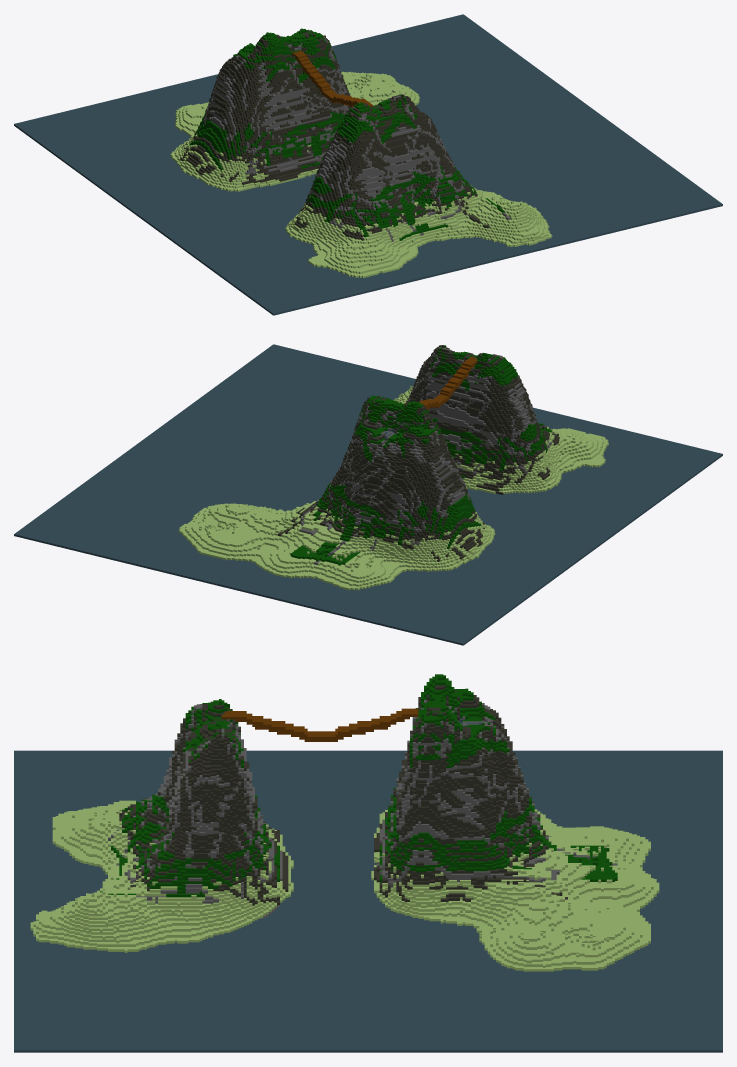
File: Zwei Inseln from heightmap mit bäumen.obj
3 renders of one model, top to bottom at view 1: azimuth 30°, elevation 25°; view 2: azimuth 150°, elevation 25°; view 3: azimuth 270°, elevation 25°, orthographic. The views are drawn at different scales.
Parts seen in each view (by area): view 1: island02_heightmap; view 2: island02_heightmap; view 3: island02_heightmap.
Boxes of the visible parts, x1,y1,x2,y2 form: island02_heightmap: (14,14,722,315); island02_heightmap: (14,344,722,645); island02_heightmap: (14,674,722,1052).
Size of the model in its own units: 25.6 by 7.1 by 25.6.
